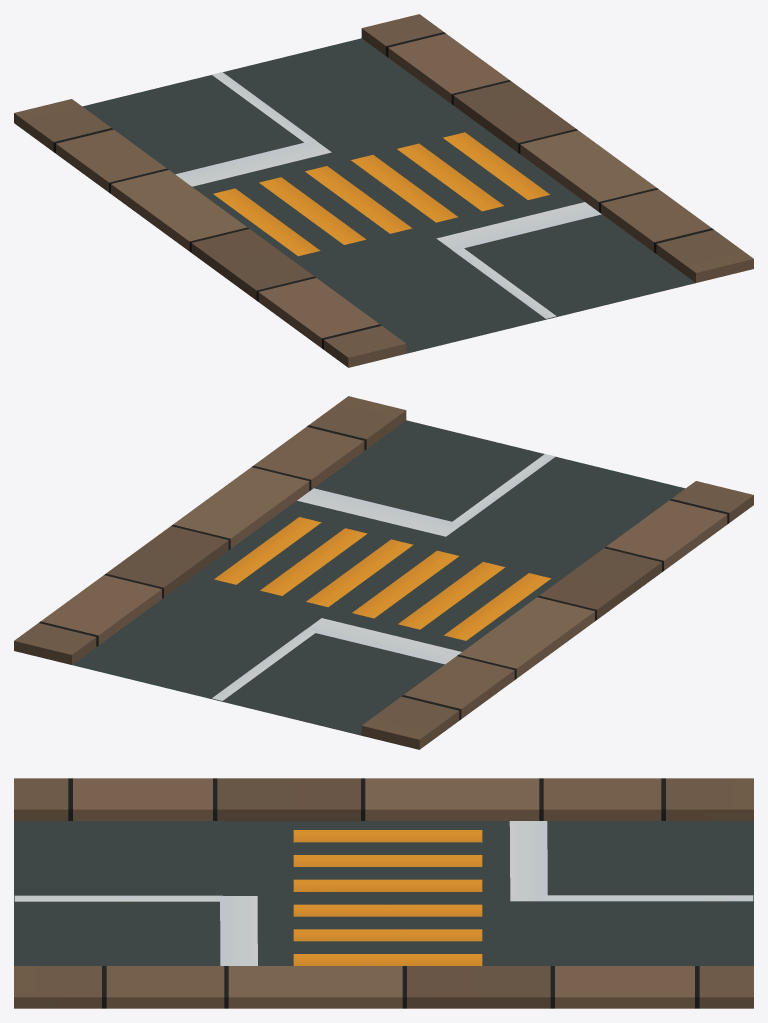
Rendered from Road_1_106.fbx.
The picture shows the model from 3 angles, top to bottom: view 1: azimuth 30°, elevation 25°; view 2: azimuth 150°, elevation 25°; view 3: azimuth 270°, elevation 25°; orthographic projection. The views are drawn at different scales.
Visible parts, largest first — view 1: Road_1_106; view 2: Road_1_106; view 3: Road_1_106.
Boxes of the visible parts, <box> form: Road_1_106: <box>14,14,753,367</box>; Road_1_106: <box>14,396,753,749</box>; Road_1_106: <box>14,778,753,1008</box>.
Bounding box in the file's own units: 1260 × 30 × 1800.
